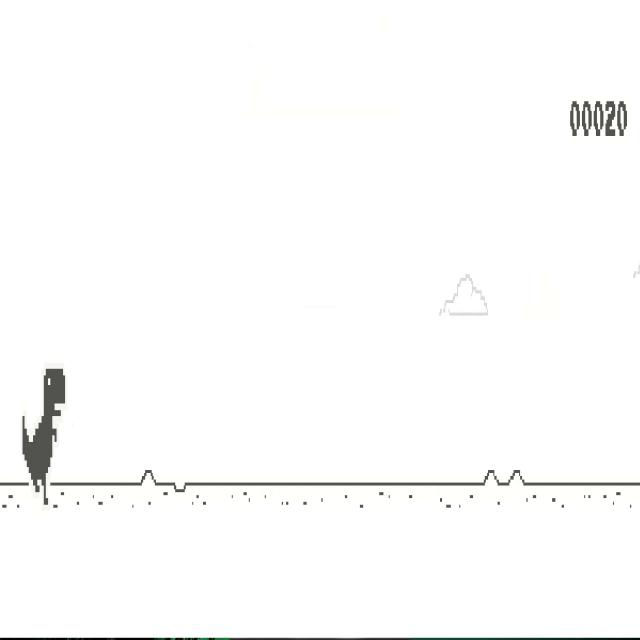dino: (21, 368, 66, 506)
